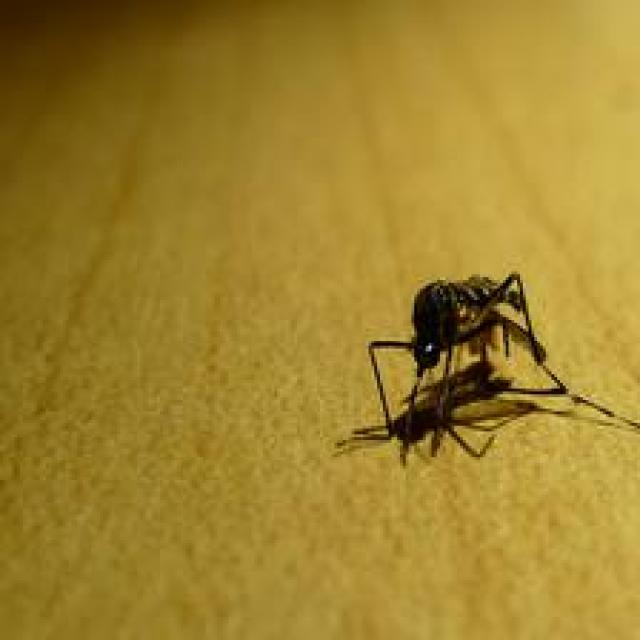Aedes albopictus: (331, 268, 640, 468)
